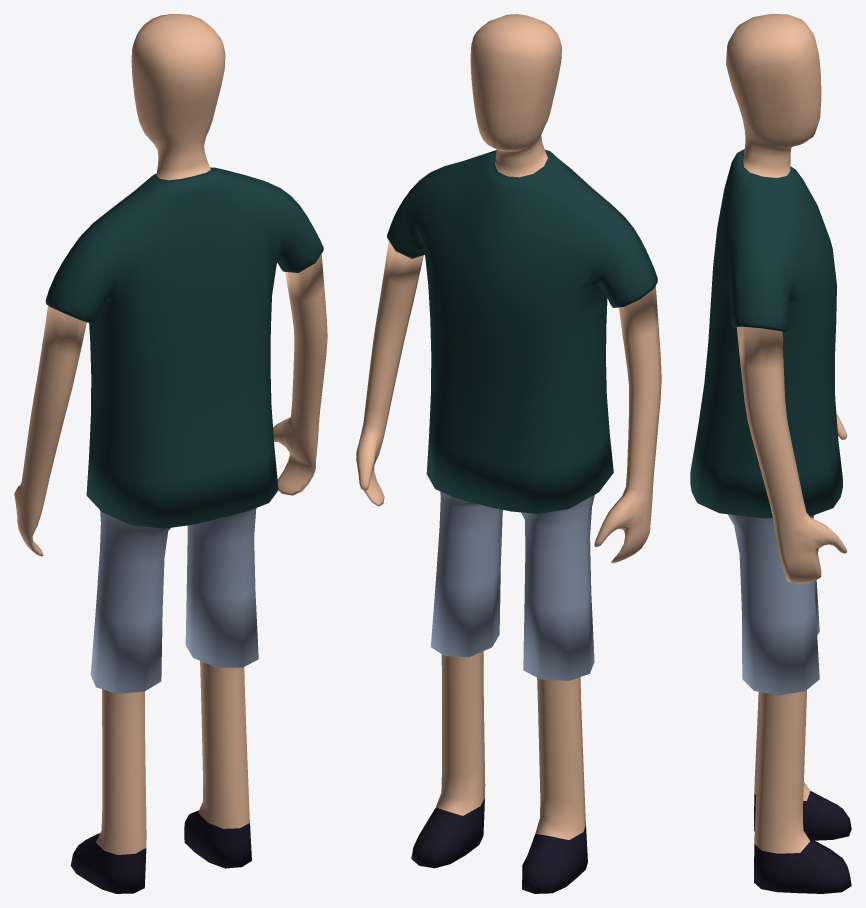
The model's file is Personaje.fbx.
3 views of the same model, side by side, from view 1: azimuth 30°, elevation 25°; view 2: azimuth 150°, elevation 25°; view 3: azimuth 270°, elevation 25° (orthographic). The views are drawn at different scales.
Visible parts, largest first — view 1: Personaje; view 2: Personaje; view 3: Personaje.
Boxes of the visible parts, x1,y1,x2,y2 form: Personaje: (14, 14, 327, 893); Personaje: (356, 14, 661, 893); Personaje: (690, 14, 851, 893).
Bounding box in the file's own units: 73.52 × 206 × 36.04.
1 material, 1 textured.
